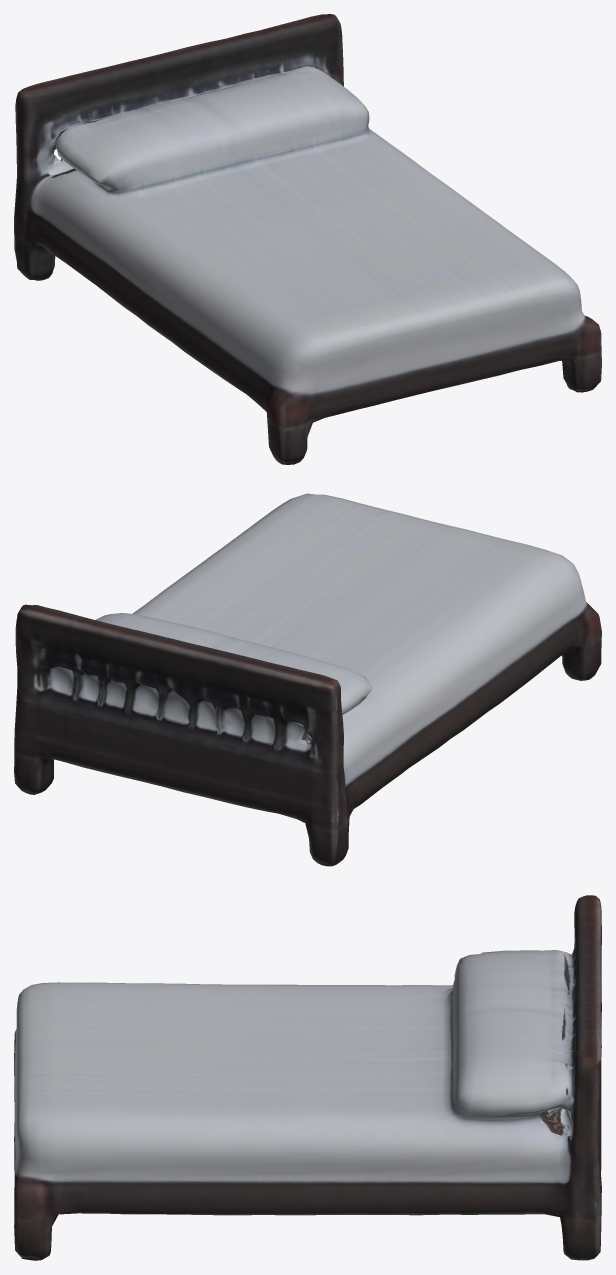
File: 063ccac7f23e_simple_bed_no_frame.fbx
3 views of the same model, one above another, from view 1: azimuth 30°, elevation 25°; view 2: azimuth 150°, elevation 25°; view 3: azimuth 270°, elevation 25° (orthographic). The views are drawn at different scales.
Visible parts, largest first — view 1: mesh; view 2: mesh; view 3: mesh.
Boxes of the visible parts, box(x1,y1,x2,y2) form: mesh: box(14, 14, 601, 464); mesh: box(14, 493, 601, 866); mesh: box(14, 895, 601, 1260).
Size of the model in its own units: 69.24 by 37.8 by 99.85.
